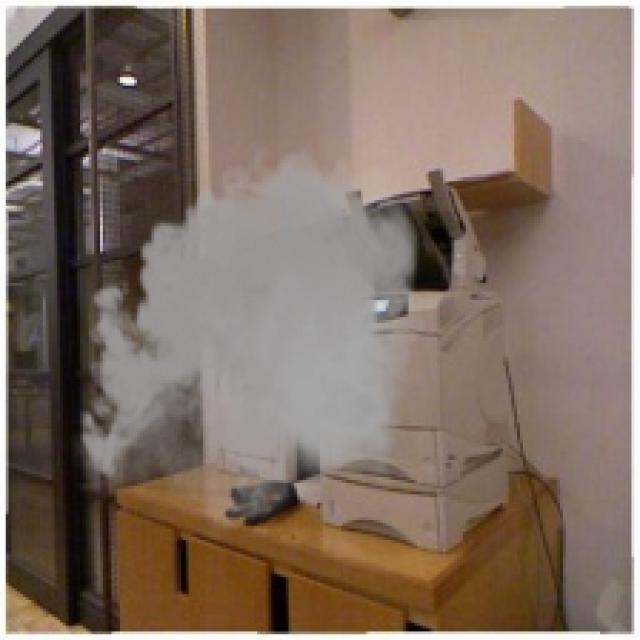Smoke: (69, 137, 432, 543)
